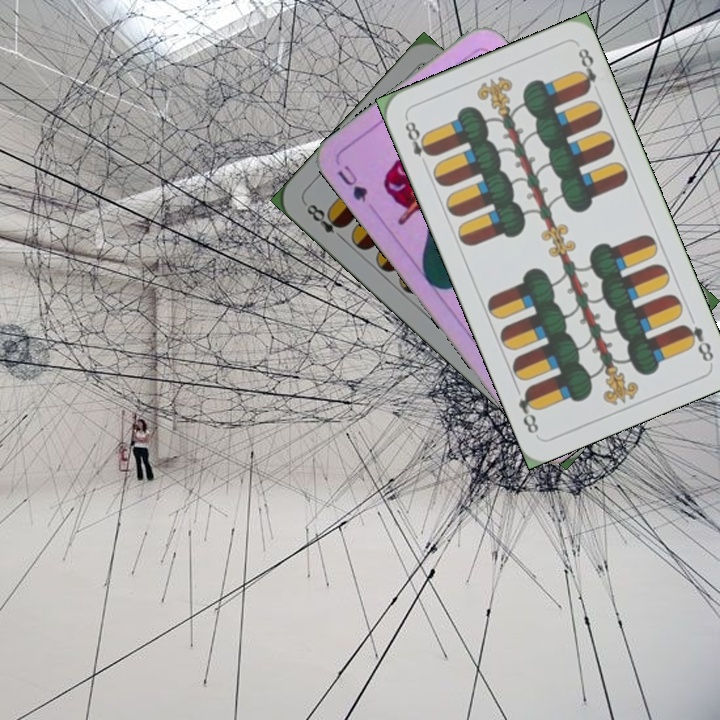E8: (400, 113, 436, 170), (302, 200, 348, 244), (678, 320, 716, 365)
GU: (333, 160, 371, 205)
